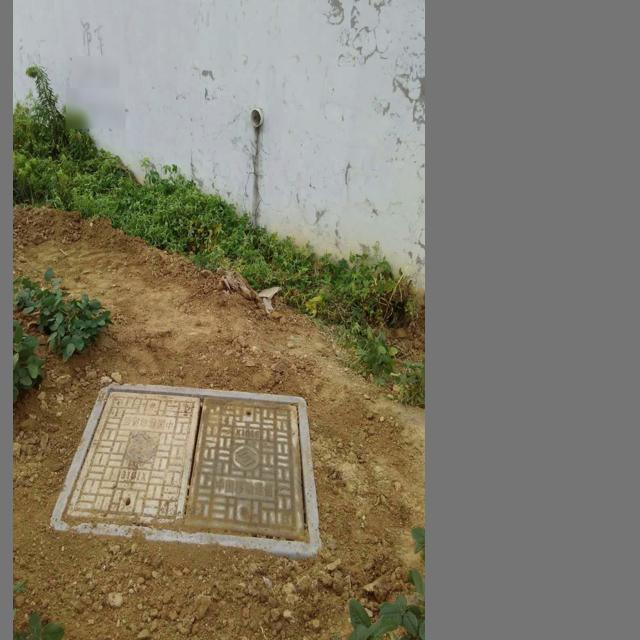good: (49, 380, 322, 556)
